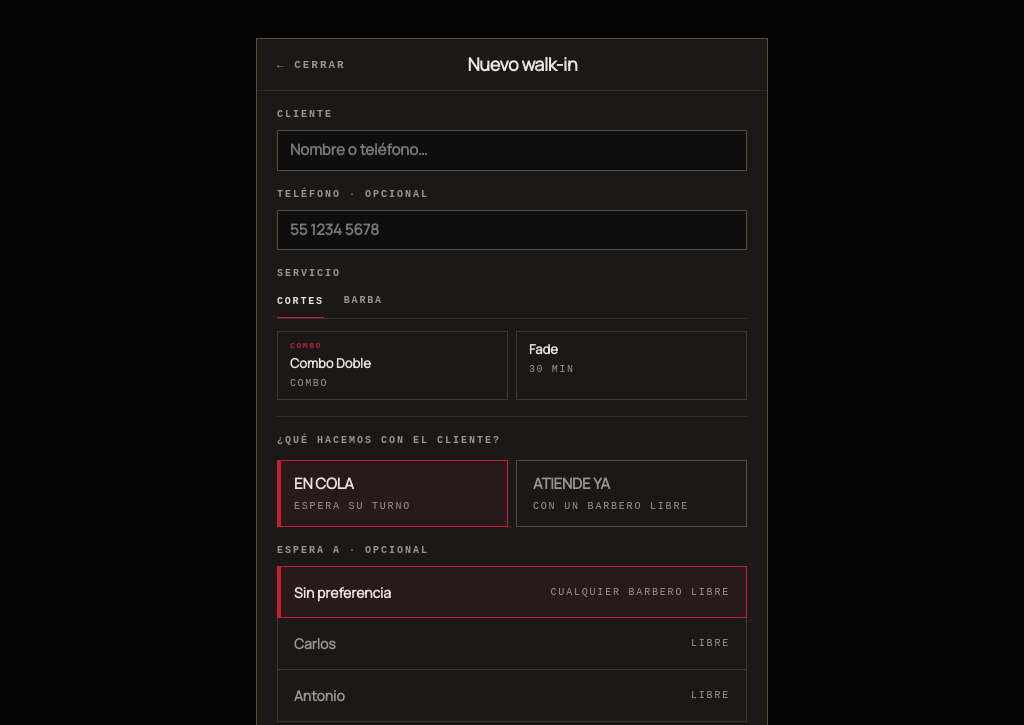
Test case: AddWalkInSheet › el picker muestra solo servicios y combos, sin tab "Todo", en el orden del cobro
The image size is (1024, 725).
Check: the button "Combo Combo Doble Combo" is shown, box [277,331,508,400]
Check: the button "Cortes" is shown, box [277,293,324,319]
Step 1. Click the button "Barba" → click(363, 306), box [344,293,383,318]
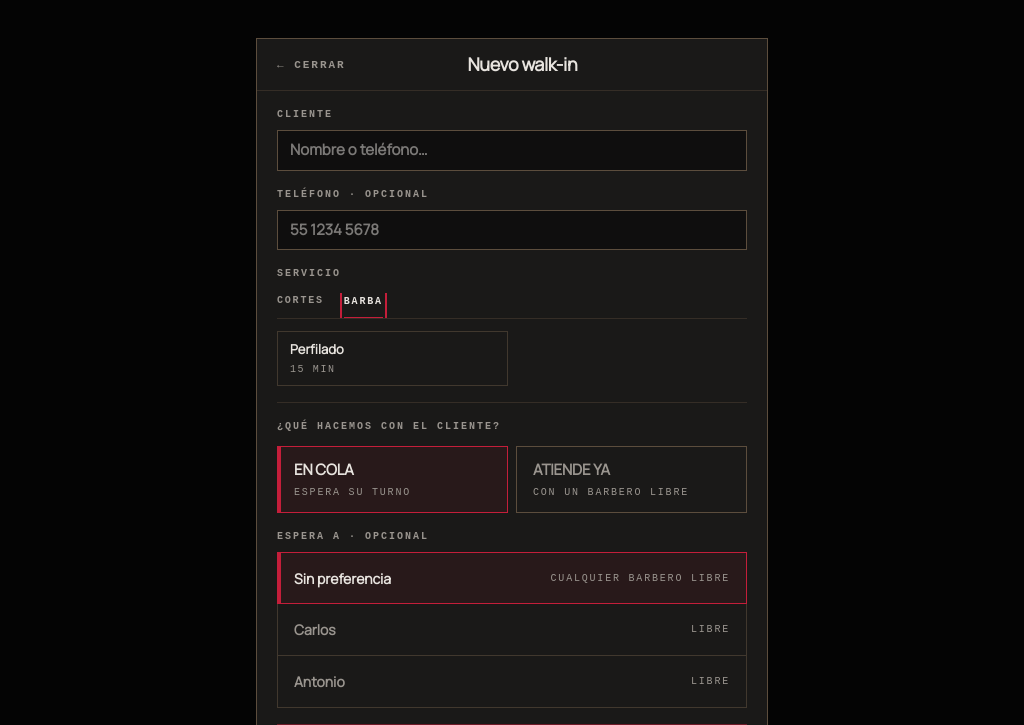
Check: the button "Perfilado 15 min" is shown, box [277,331,508,386]
Check: the button "Fade" is gone
